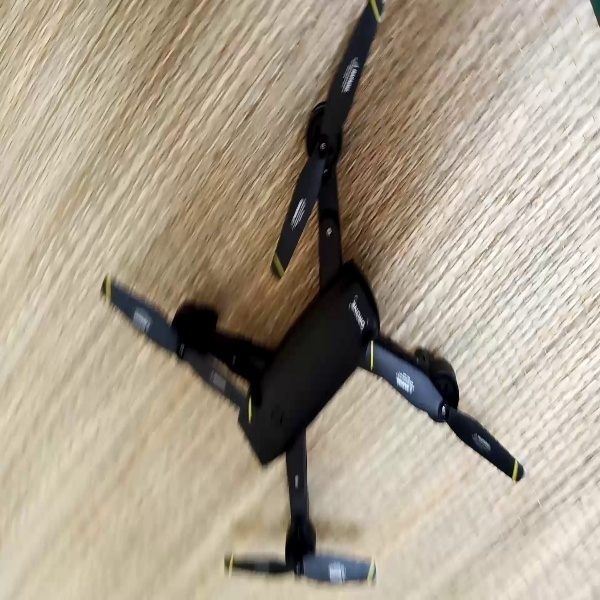drone: (92, 1, 528, 594)
